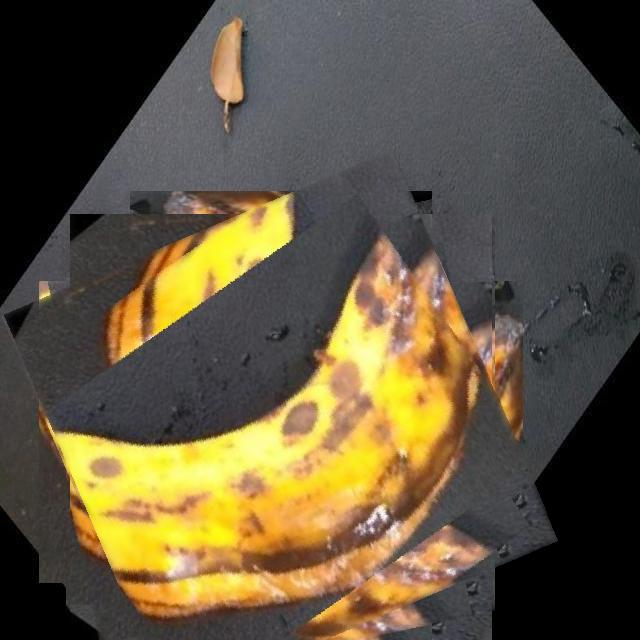Podre: (34, 182, 526, 640)
